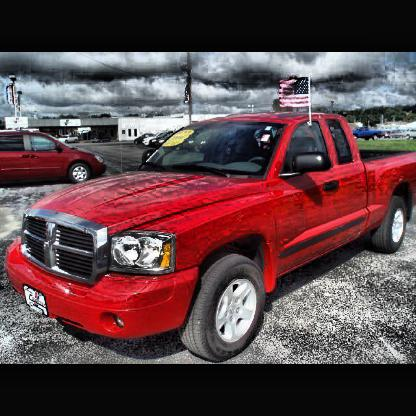Dodge Dakota Club Cab 2007: (9, 107, 414, 363)
